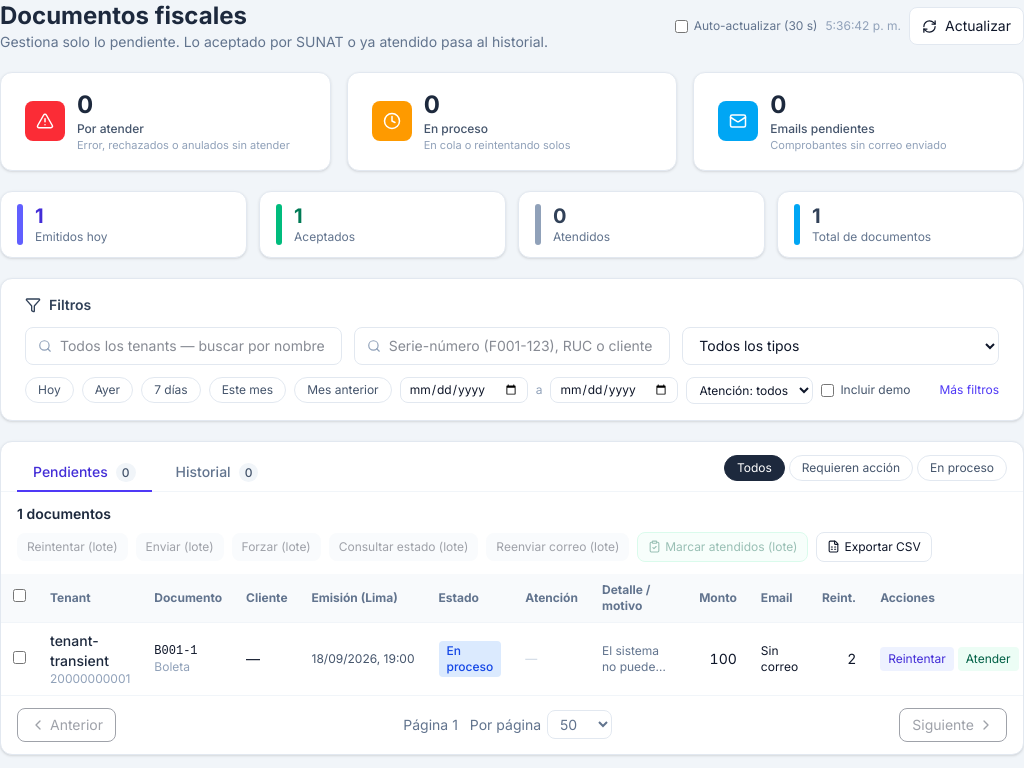
it: FiscalDocumentsPage — Fase 3 › transient con retryable=true SÍ presenta retry como acción normal disponible
What coordinates should you click on to do the following:
click the text "tenant-transient"
I would click on:
 (80, 650)
Its box is [50,632,109,668].
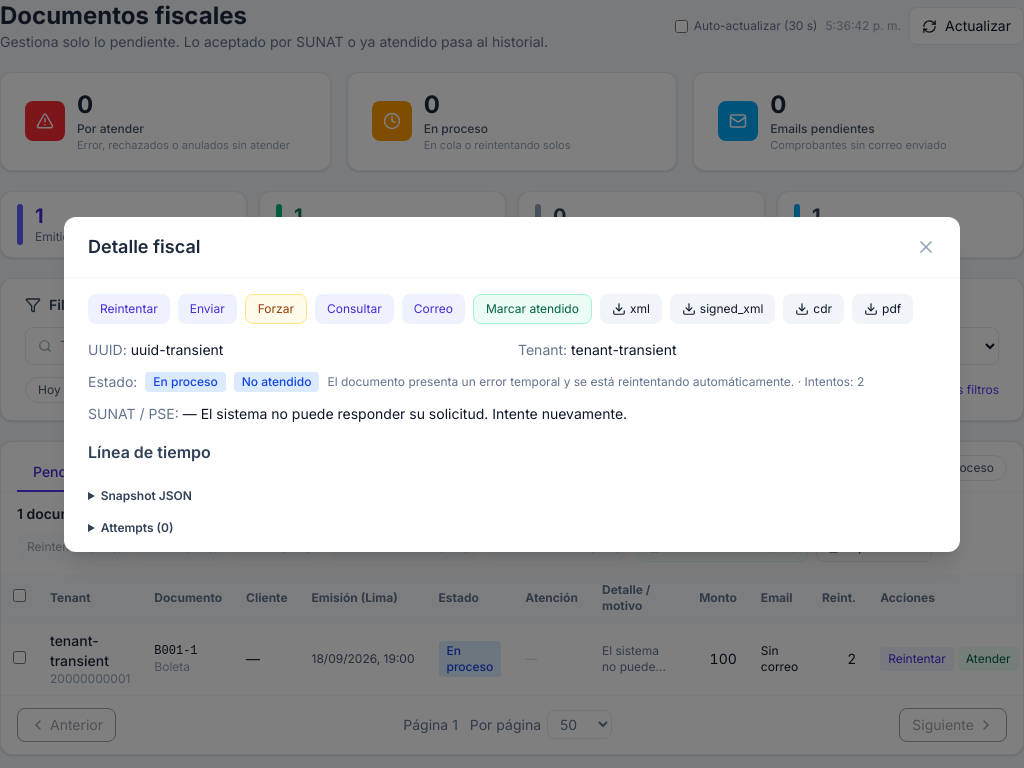
Expected: the 1st text "En proceso" is shown, [424,121,488,136]
Now the text "UUID:" is shown, box [88,340,127,358]
